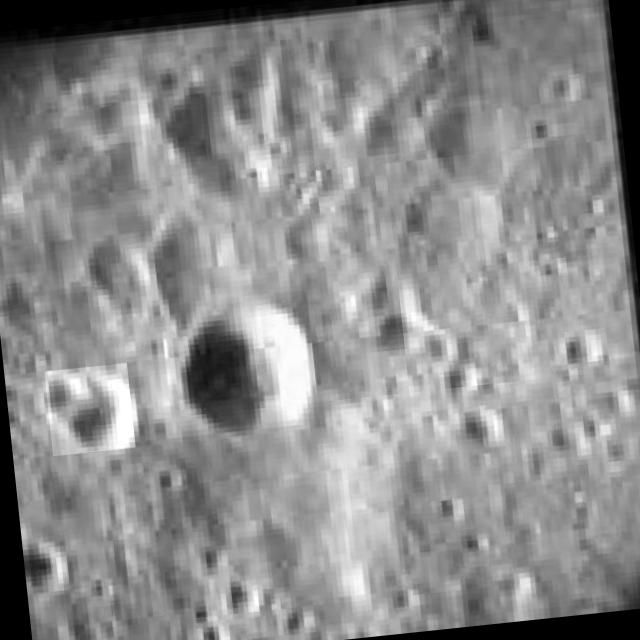crater: (176, 290, 320, 440), (44, 362, 135, 456)
